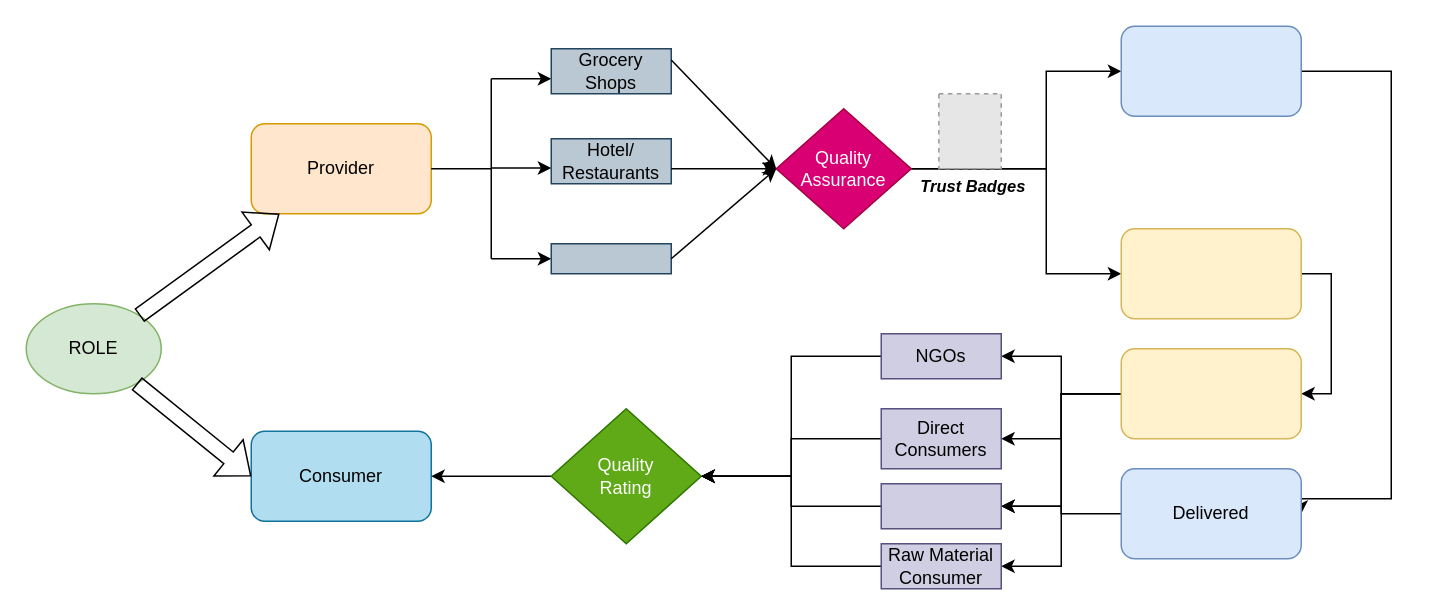
This 1430x615 diagram has some shape labels left out. Grey dashed boxes stand in for pictures. The centre of each missing label's shape, as x and y in pixels:
Caterers: point (610, 258)
Delivery System: point (1210, 70)
Groups: point (940, 505)
Pickup: point (1210, 393)
Take Away: point (1210, 273)
